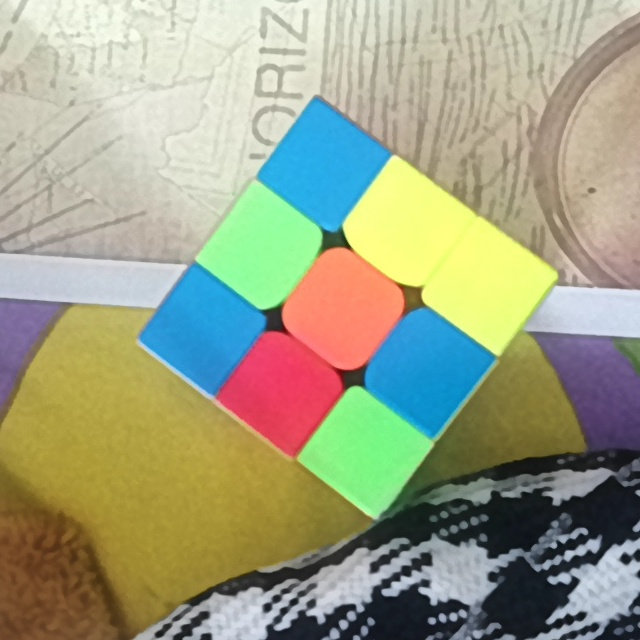tile: (306, 278, 380, 346), (327, 424, 406, 487), (288, 131, 357, 202), (375, 188, 443, 258), (244, 362, 317, 426), (392, 338, 459, 406), (223, 220, 294, 284), (452, 258, 519, 322), (170, 299, 236, 361)
